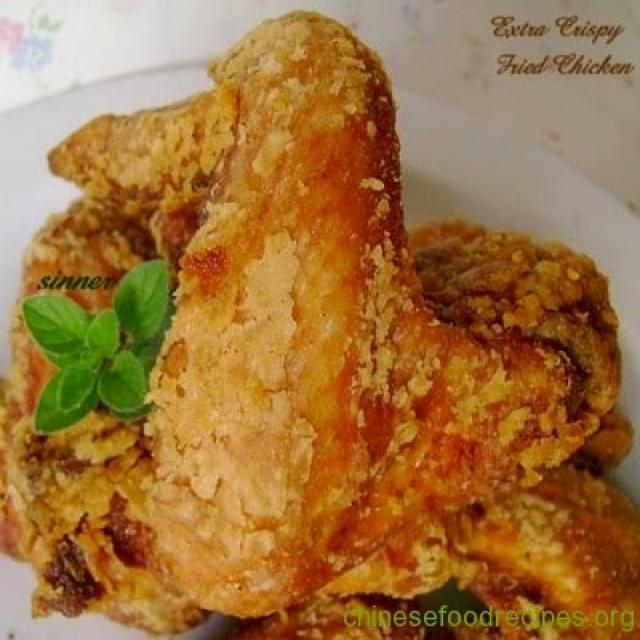Deep fried chicken wing: (108, 52, 591, 599)
